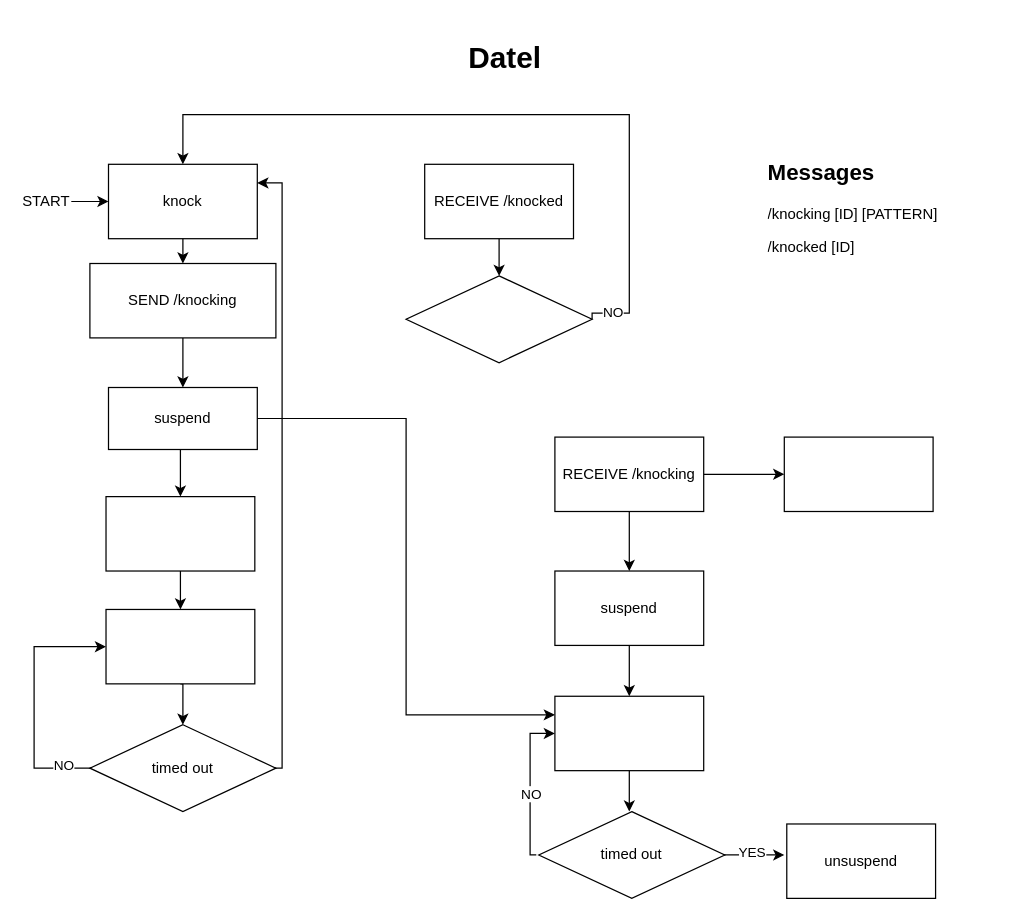
This 1009x920 diagram has some shape labels left out. Here are the shapes that lost their labels. From the top down, the centre of each, then its label:
At (x=498, y=319): "is suspended".
At (x=858, y=474): "mutate pattern".
At (x=180, y=533): "reset global timeout".
At (x=180, y=646): "increment global timeout".
At (x=629, y=733): "increment timeout".
